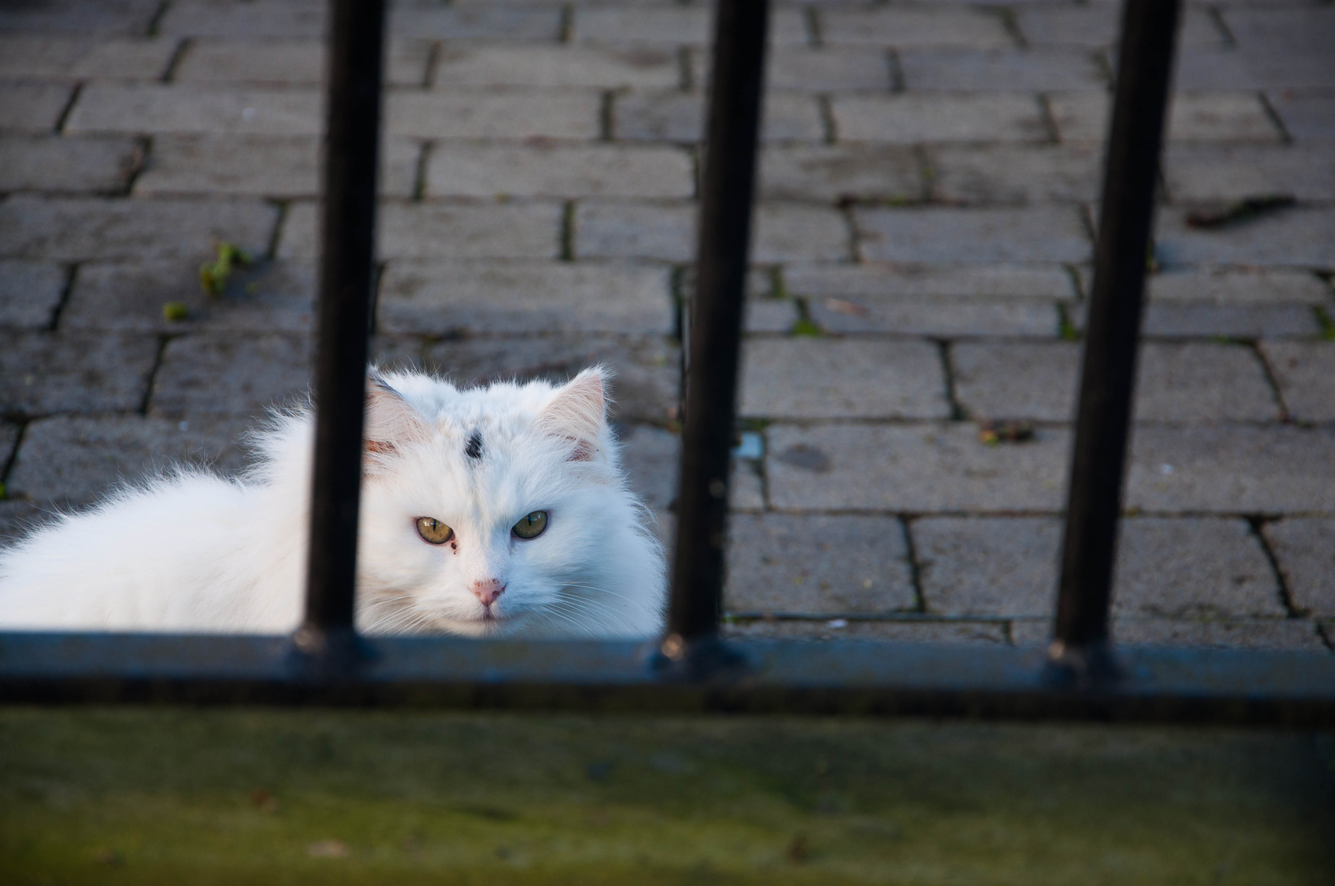cat: (0, 368, 672, 637)
